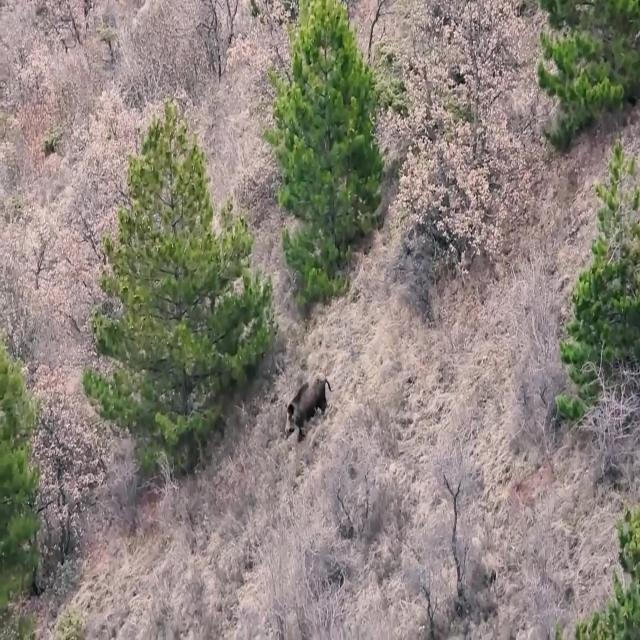pig: (266, 369, 346, 447)
